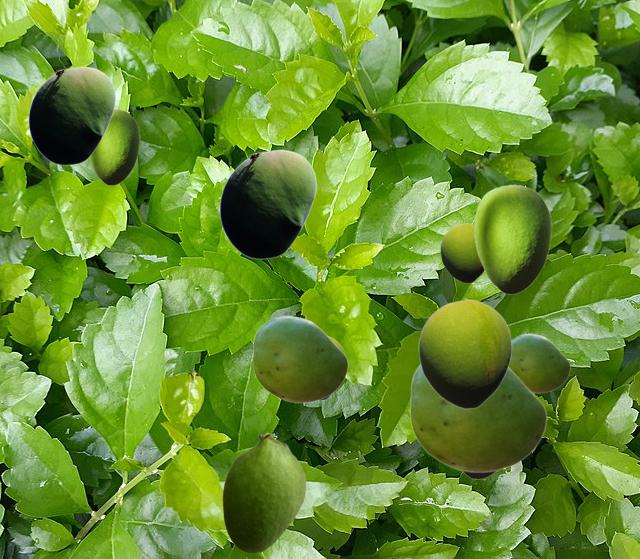green_mango: (409, 364, 546, 472), (219, 149, 316, 258), (418, 299, 511, 408), (222, 432, 305, 552), (28, 66, 115, 164), (473, 184, 551, 293), (252, 315, 347, 402), (89, 108, 139, 184), (510, 333, 569, 392), (440, 223, 483, 282), (324, 335, 345, 399), (462, 472, 497, 478)
